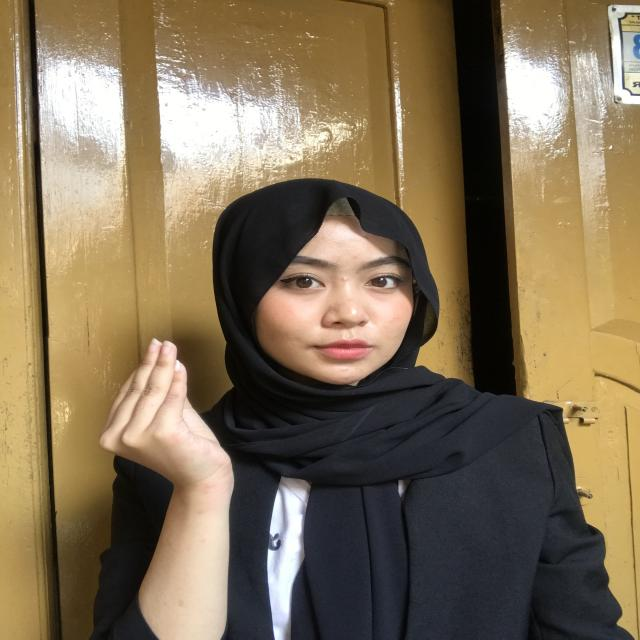kapan: (75, 330, 282, 578)
